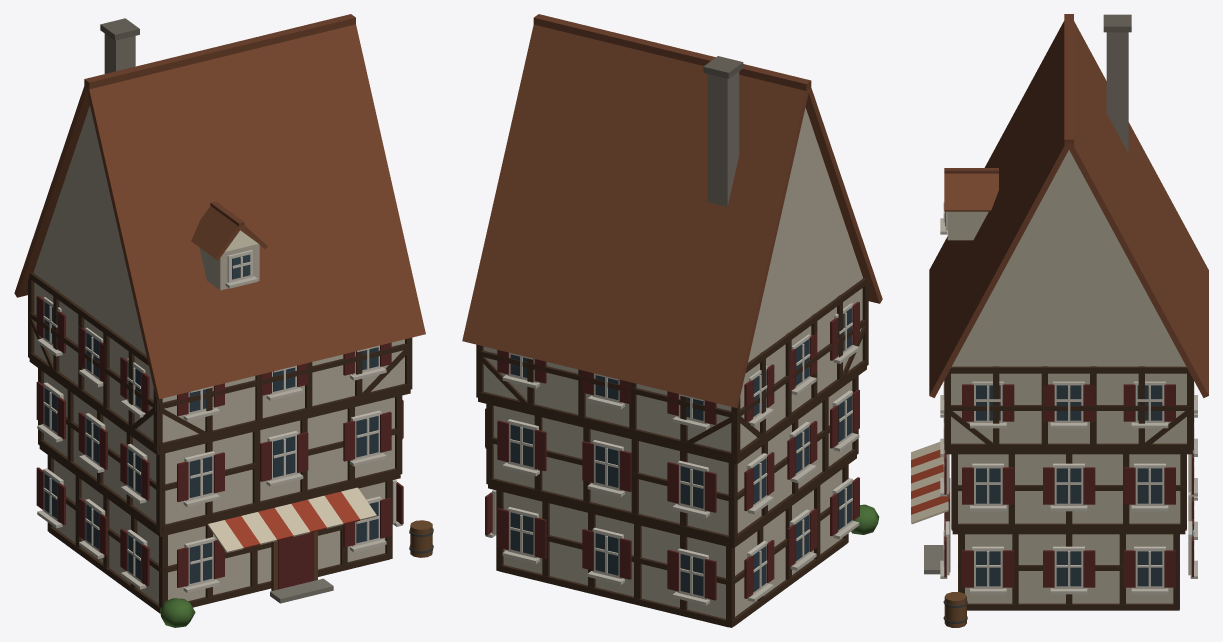
Rendered from procedural_house@3.glb.
3 views of the same model, side by side, from view 1: azimuth 30°, elevation 25°; view 2: azimuth 150°, elevation 25°; view 3: azimuth 270°, elevation 25° (orthographic). The views are drawn at different scales.
Visible parts, largest first — view 1: part_0; view 2: part_0; view 3: part_0.
Part boxes in pixels (box(x1,y1,x2,y2)): part_0: box(14, 14, 433, 627); part_0: box(462, 14, 882, 627); part_0: box(911, 14, 1208, 627).
Bounding box in the file's own units: 8.02 × 13.92 × 7.49.
